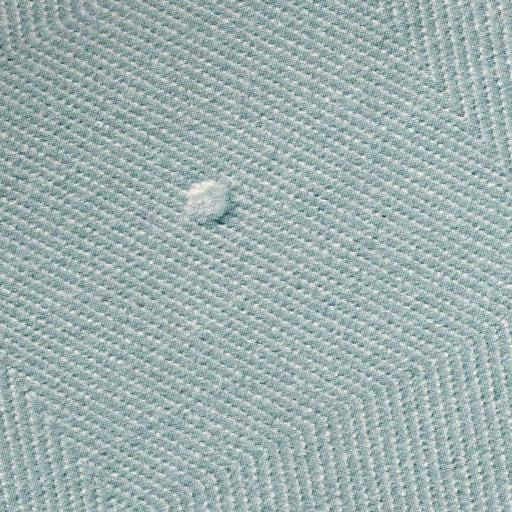knot: (180, 176, 240, 233)
